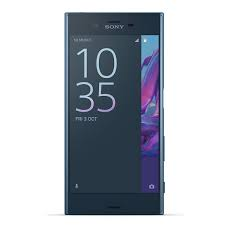sony: (60, 9, 166, 215)
